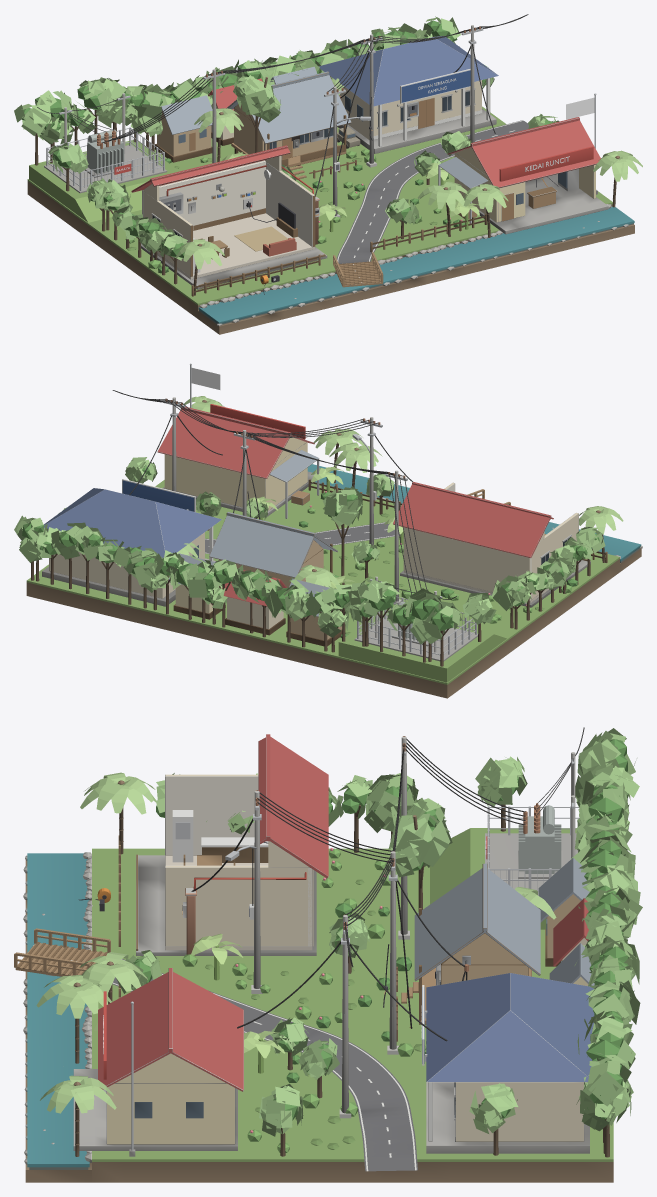
File: Kampung.glb
3 views of the same model, one above another, from view 1: azimuth 30°, elevation 25°; view 2: azimuth 150°, elevation 25°; view 3: azimuth 270°, elevation 25° (orthographic). The views are drawn at different scales.
Parts seen in each view (by area): view 1: Pokok, Tapak, RumahA, Dewan, Kedai, Sungai, RumahB, Jalan, RumahLatar, PagarPencawang, PerabotA, Talian_Agihan (+11 smaller); view 2: Pokok, Tapak, RumahA, Kedai, Dewan, RumahB, RumahLatar, PagarPencawang, Talian_Agihan, Sungai, Bahaya_PokokTalian, Jalan (+6 smaller); view 3: Tapak, Pokok, RumahA, Dewan, Kedai, Sungai, RumahB, Jalan, RumahLatar, Bahaya_PokokTalian, PagarPencawang, Pencawang (+7 smaller).
Part boxes in pixels (box(x1,y1,x2,y2)): Pokok: box(14, 16, 642, 295); Tapak: box(27, 106, 634, 334); RumahA: box(131, 145, 327, 289); Dewan: box(319, 35, 498, 153); Kedai: box(438, 117, 608, 234); Sungai: box(198, 206, 634, 323); RumahB: box(226, 71, 351, 179); Jalan: box(333, 120, 528, 287); RumahLatar: box(155, 66, 317, 162); PagarPencawang: box(37, 93, 167, 193); PerabotA: box(193, 169, 297, 273); Talian_Agihan: box(101, 14, 528, 143); Pokok: box(14, 396, 623, 666); Tapak: box(26, 480, 642, 698); RumahA: box(393, 482, 590, 607); Kedai: box(157, 406, 319, 518); Dewan: box(42, 488, 221, 606); RumahB: box(209, 512, 337, 587); RumahLatar: box(168, 553, 342, 646); PagarPencawang: box(354, 576, 477, 661); Talian_Agihan: box(112, 390, 427, 594); Sungai: box(307, 464, 641, 561); Bahaya_PokokTalian: box(323, 483, 362, 584); Jalan: box(205, 489, 510, 553); Tapak: box(23, 828, 613, 1182); Pokok: box(36, 728, 642, 1157); RumahA: box(136, 734, 328, 955); Dewan: box(426, 973, 594, 1153); Kedai: box(73, 968, 243, 1150); Sungai: box(27, 853, 89, 1167); RumahB: box(401, 863, 540, 1024); Jalan: box(14, 928, 417, 1171); RumahLatar: box(538, 858, 594, 985); Bahaya_PokokTalian: box(388, 798, 452, 911); PagarPencawang: box(485, 727, 584, 895); Pencawang: box(518, 761, 571, 878).
Bounding box in the file's own units: 1.08 × 0.335 × 0.8561.
